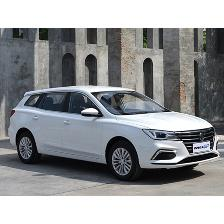EV: (10, 87, 221, 182)
